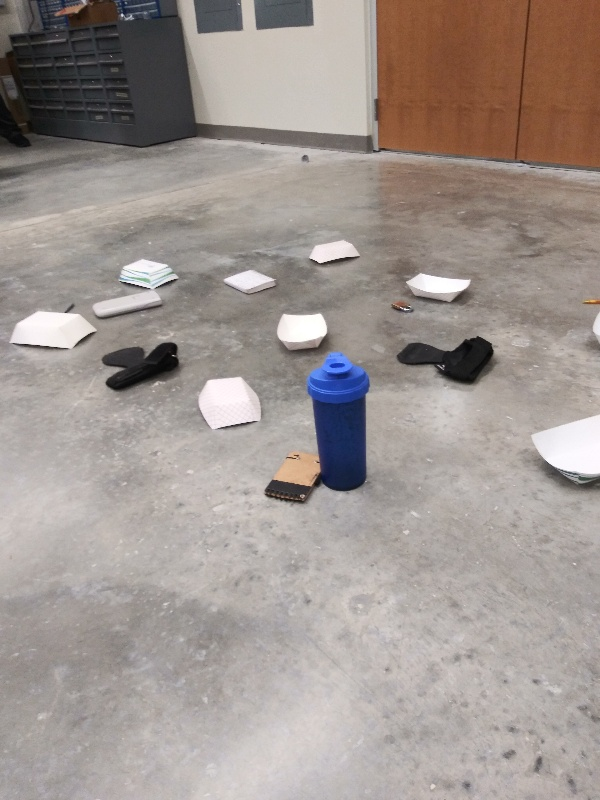plate: (524, 402, 600, 491), (191, 373, 264, 435), (4, 308, 99, 353), (400, 268, 476, 308), (273, 309, 331, 357), (114, 256, 183, 292), (304, 236, 365, 268)
